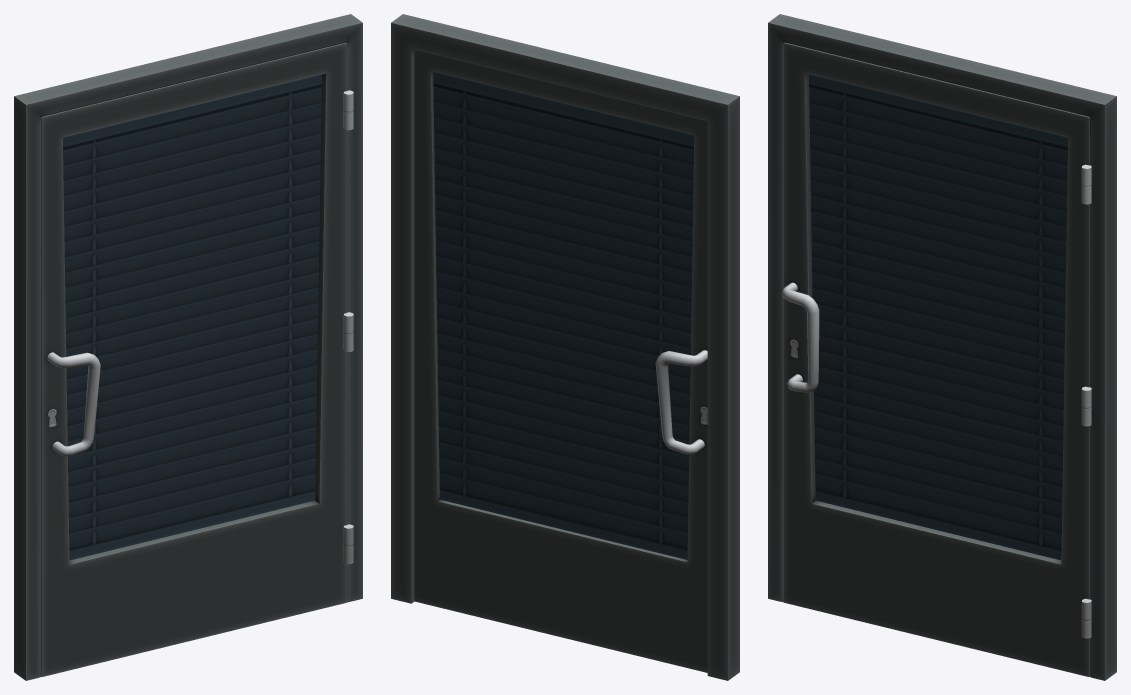
Rendered from PropDoor03TypeA.FBX.
The picture shows the model from 3 angles, left to right: view 1: azimuth 30°, elevation 25°; view 2: azimuth 150°, elevation 25°; view 3: azimuth 330°, elevation 25°; orthographic projection.
Visible parts, largest first — view 1: Glass, Door, Frame; view 2: Glass, Door, Frame; view 3: Glass, Door, Frame.
Boxes of the visible parts, x1,y1,x2,y2 form: Glass: (63, 74, 321, 560); Door: (41, 42, 353, 676); Frame: (14, 14, 362, 680); Glass: (433, 72, 694, 559); Door: (414, 50, 707, 672); Frame: (391, 14, 739, 680); Glass: (809, 74, 1067, 560); Door: (782, 42, 1091, 676); Frame: (768, 14, 1116, 680).
Size of what is drawn, in the model's own units: 1.5 by 2.45 by 0.3031.
